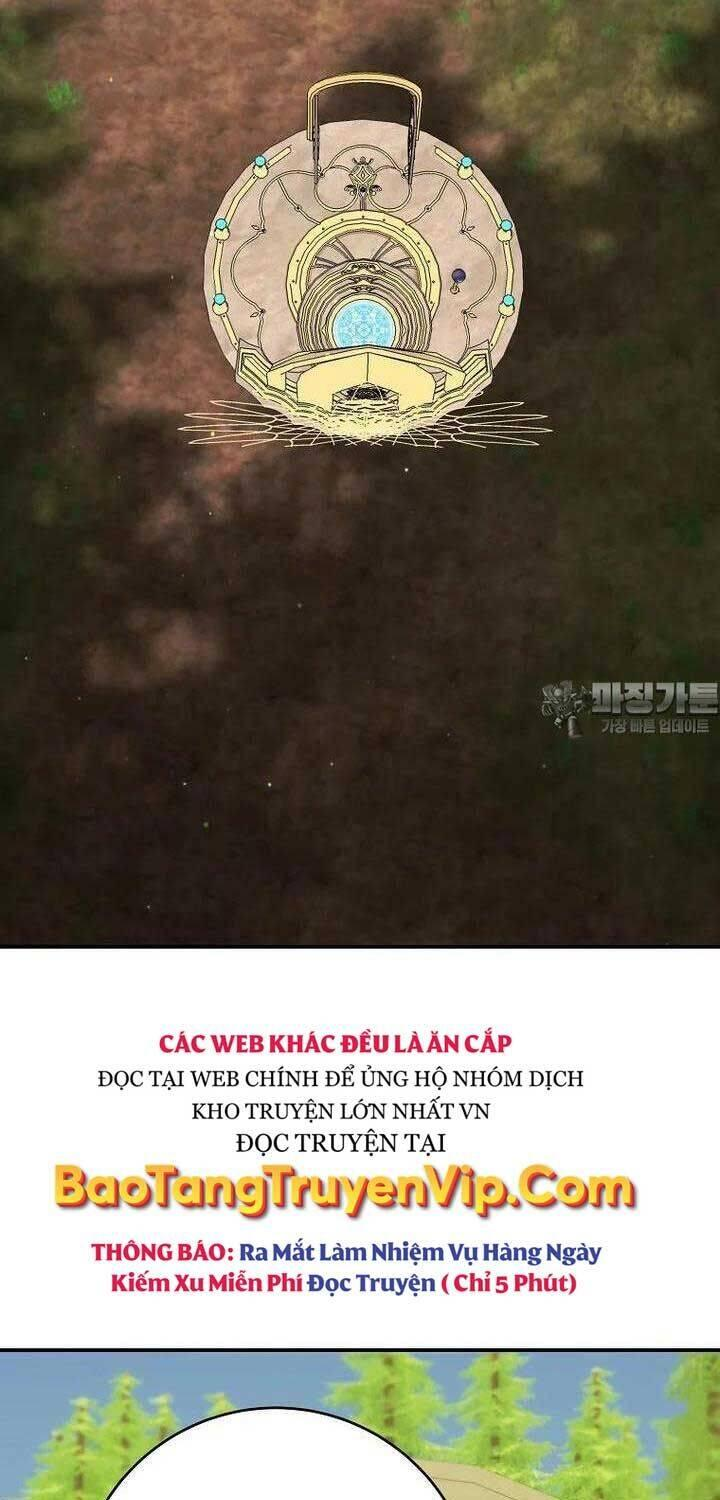quangcao: (54, 1024, 642, 1296)
